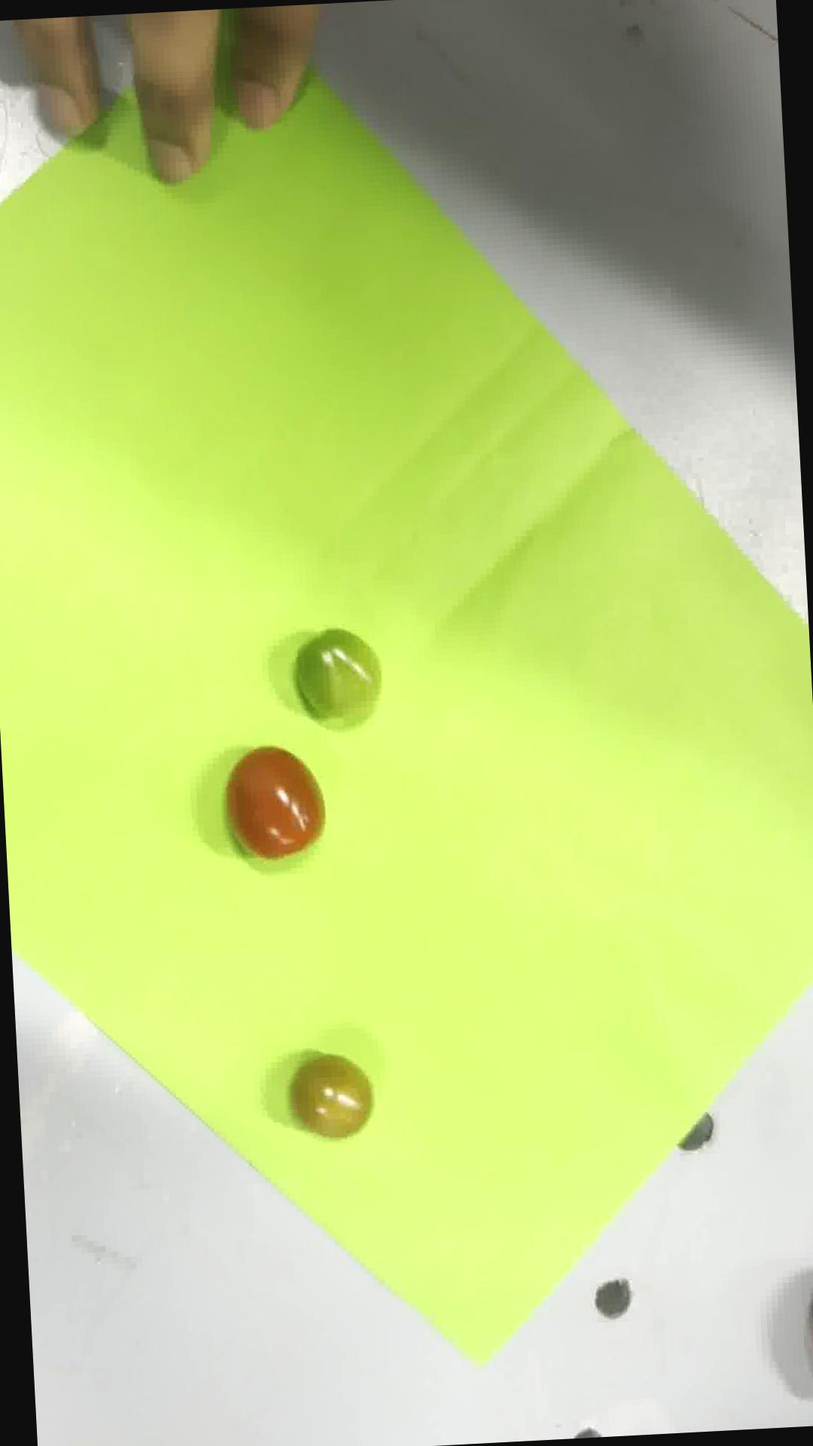green_cherry_tomato: (293, 626, 382, 729)
red_cherry_tomato: (226, 746, 324, 859)
yellow_cherry_tomato: (291, 1054, 373, 1137)
